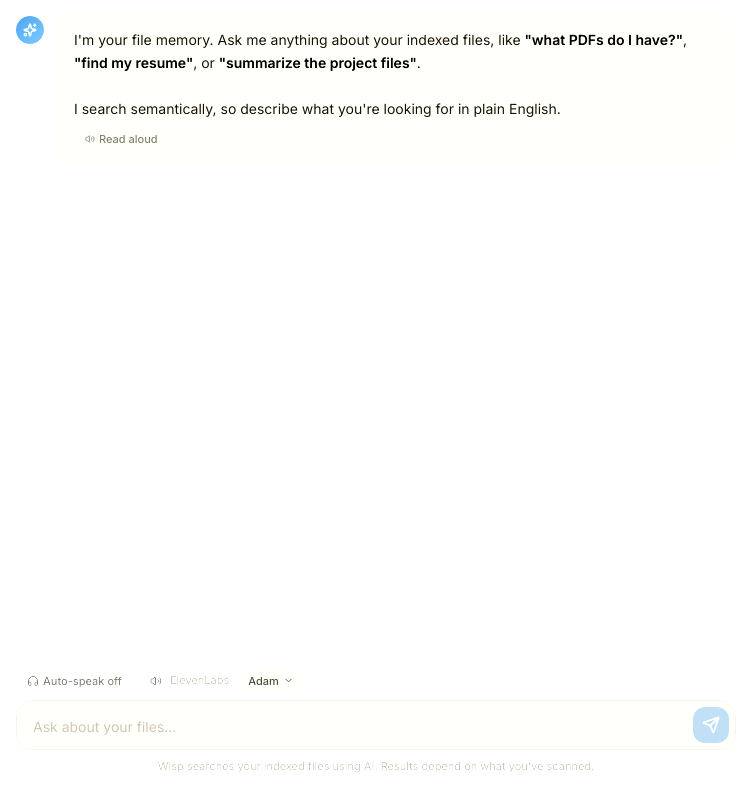
Test case: MemoryView — assistant interaction › renders a degraded assistant message when askAssistant rejects
Type "find my resume" into the text box with placeholder "Ask about your files...".
click(359, 727); type("find my resume")  # box [33, 711, 685, 742]
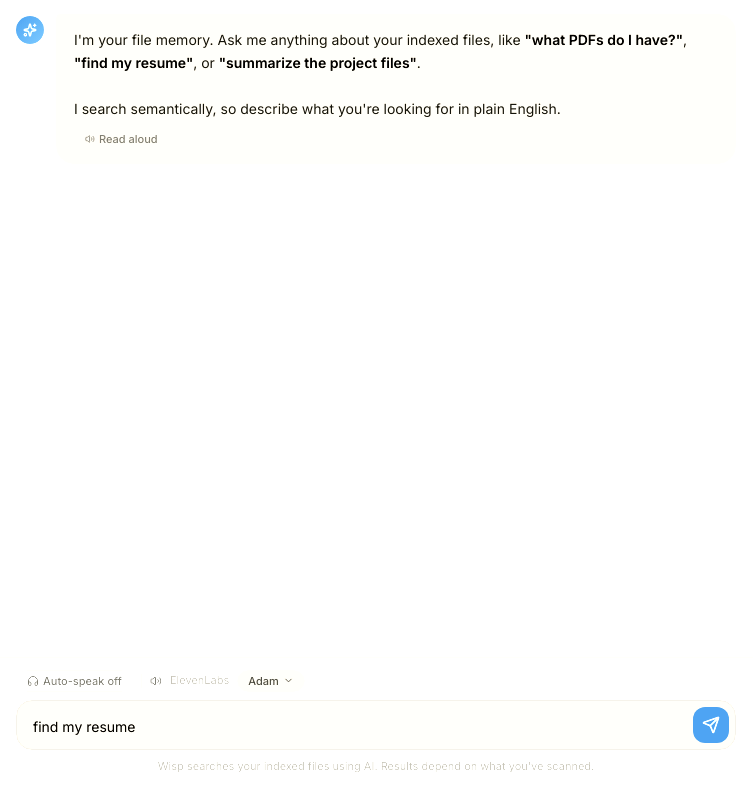
Click the button named "send".
click(711, 724)  # box [693, 706, 729, 742]
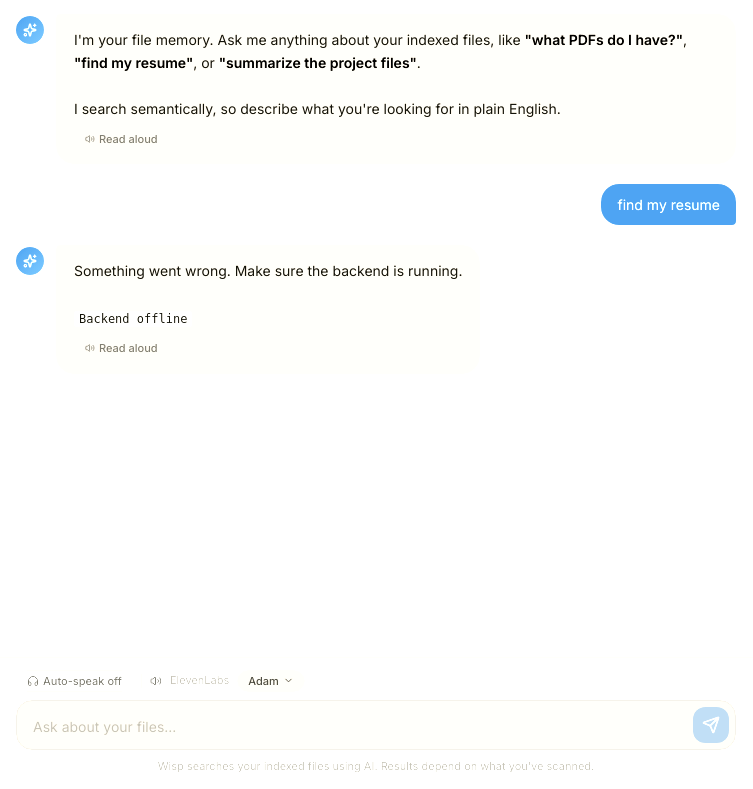
expect the text "Something went wrong" is shown: met, box [74, 262, 462, 280]
expect the text "Backend offline" is shown: met, box [74, 311, 192, 327]
